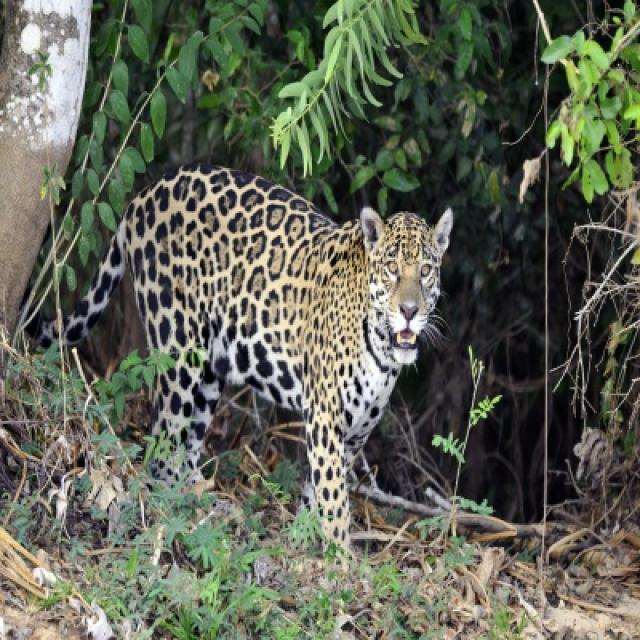Jaguar: (64, 165, 454, 554)
